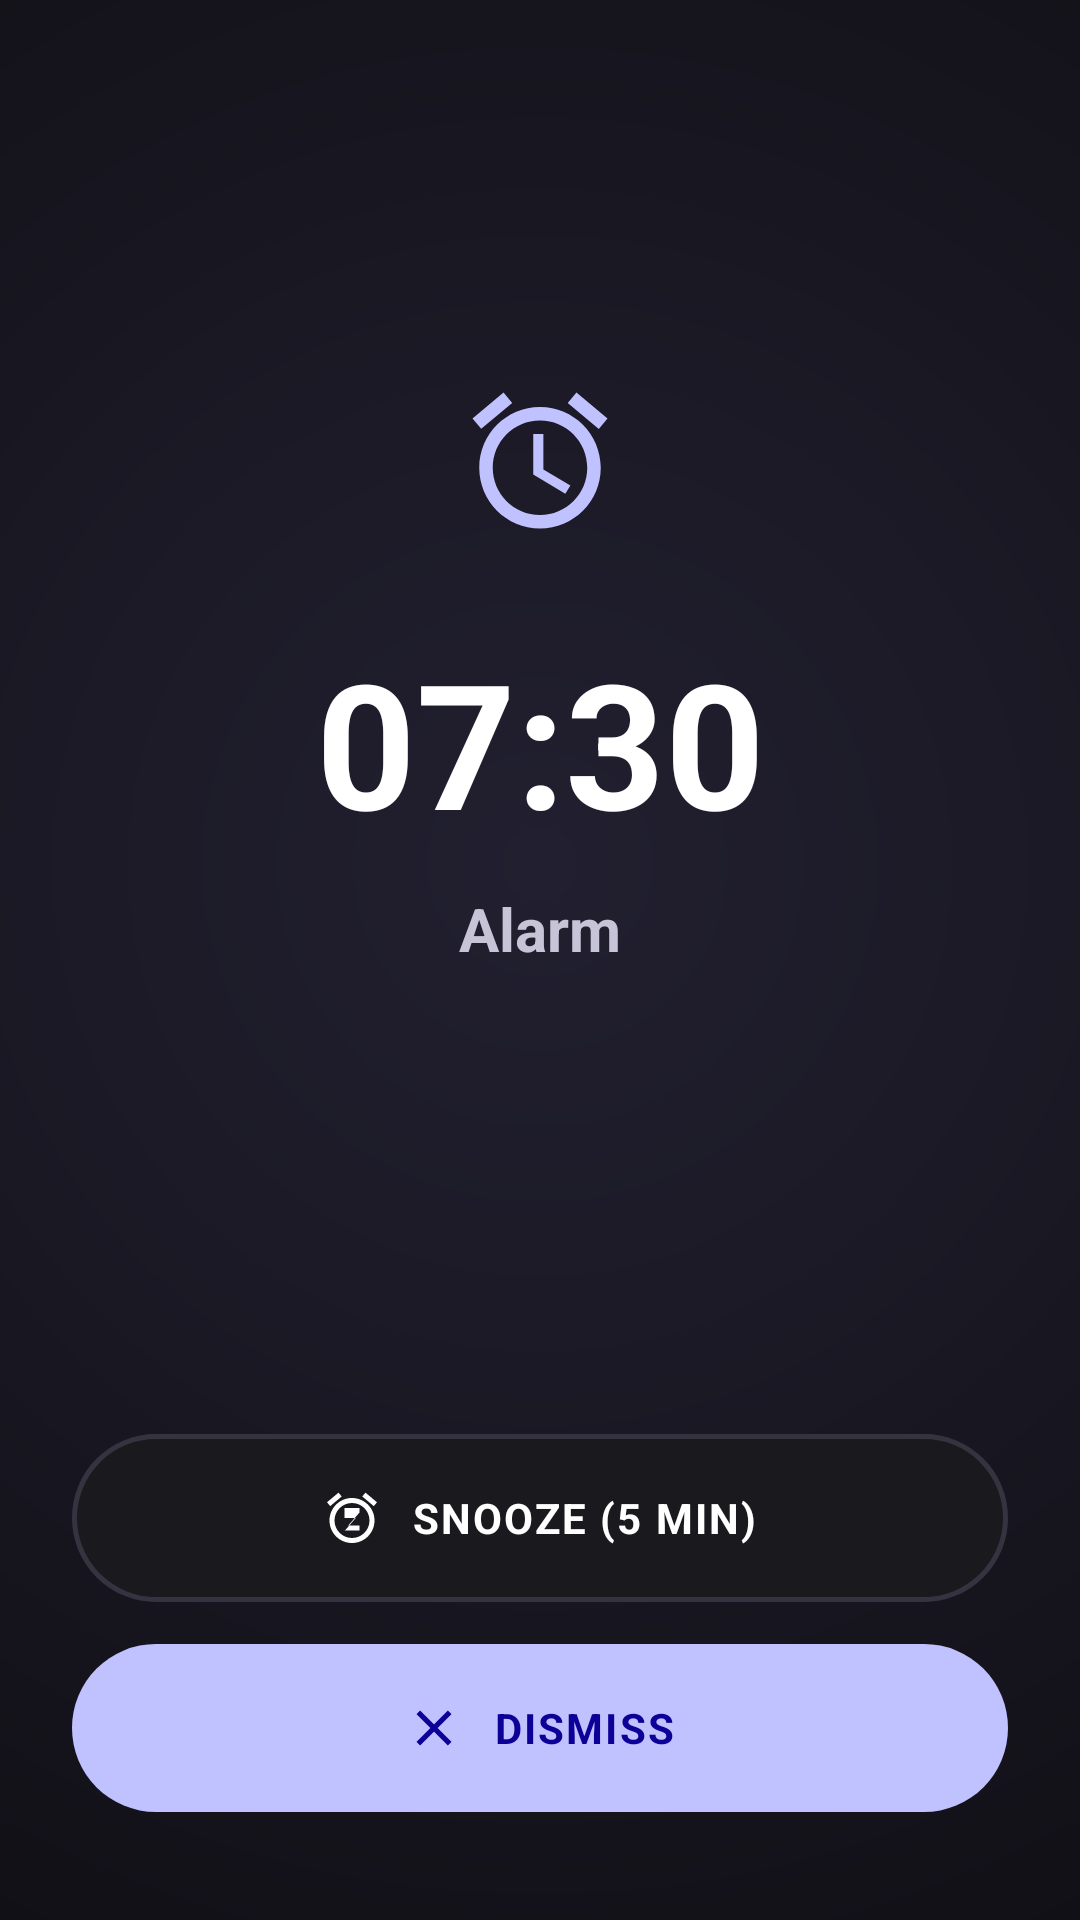

Icons on this 1080w x 1920h Android screen, each with its box as bbox=(x1, y1, x2, y2):
Alarm Icon: bbox=(472, 392, 608, 529)
